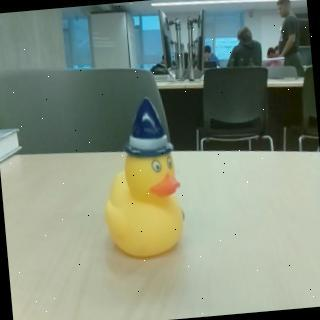duck_specialty: (95, 94, 191, 263)
